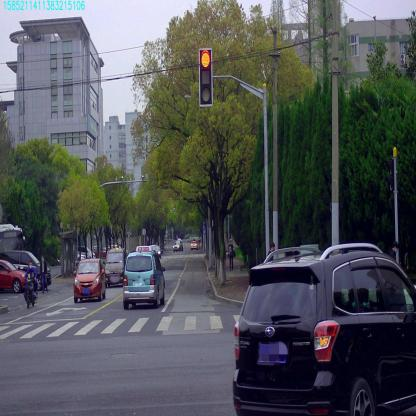traffic-light: (199, 49, 212, 105)
